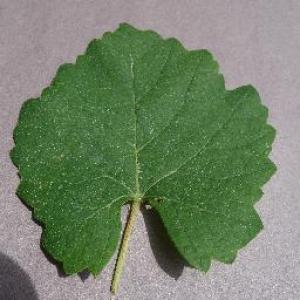Folha: (8, 21, 278, 294)
